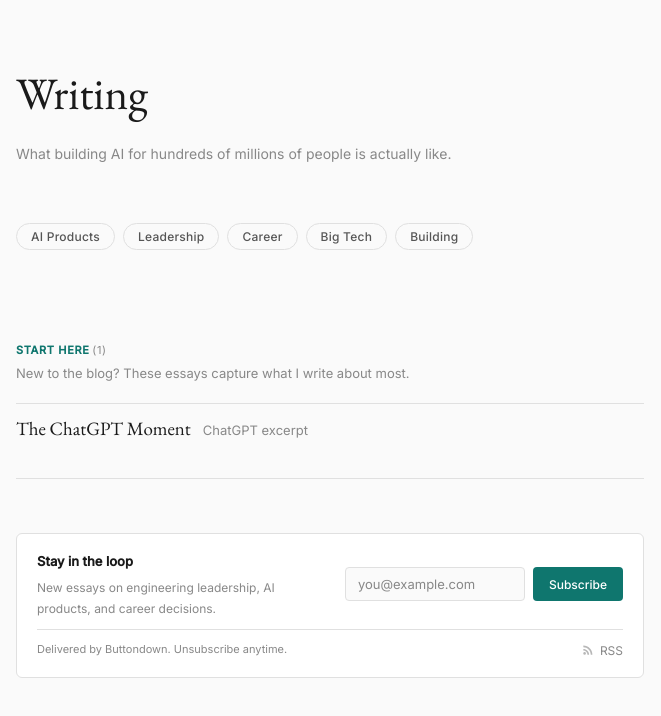
Scenario: Home page › clicking Clear button removes the filter and shows all posts
Click the button "Career": click(262, 237) [227,223,298,250]
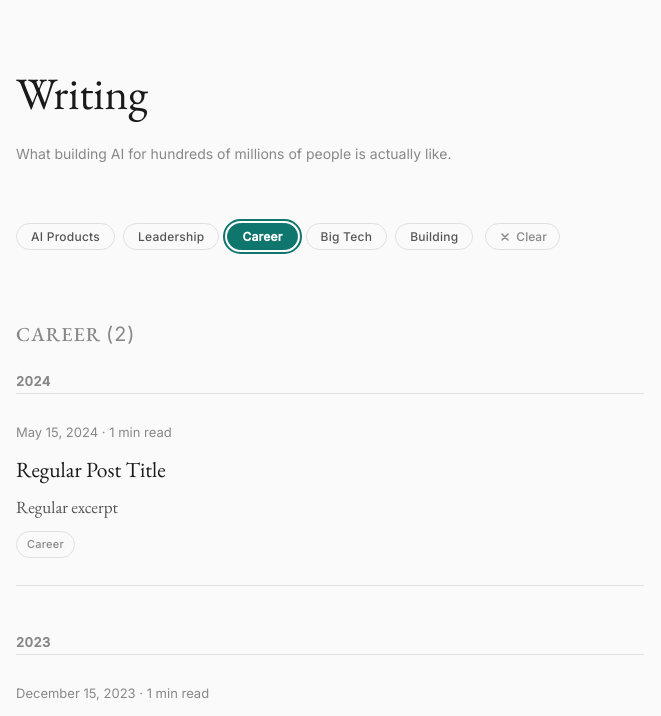
Click the button with aria-label "Clear filter": click(523, 237) [485,223,560,250]
(page scrolled)
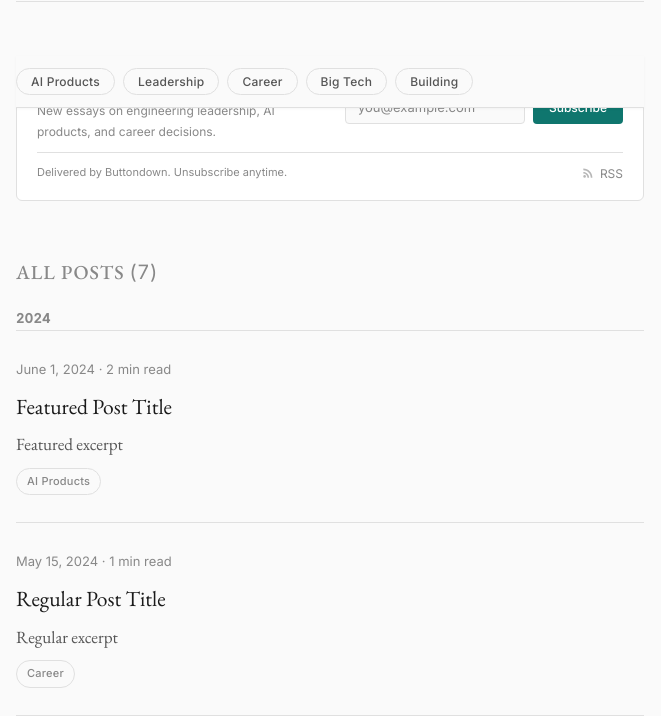
expect the link "Featured Post Title" is shown: met, box [16,392,172,420]
